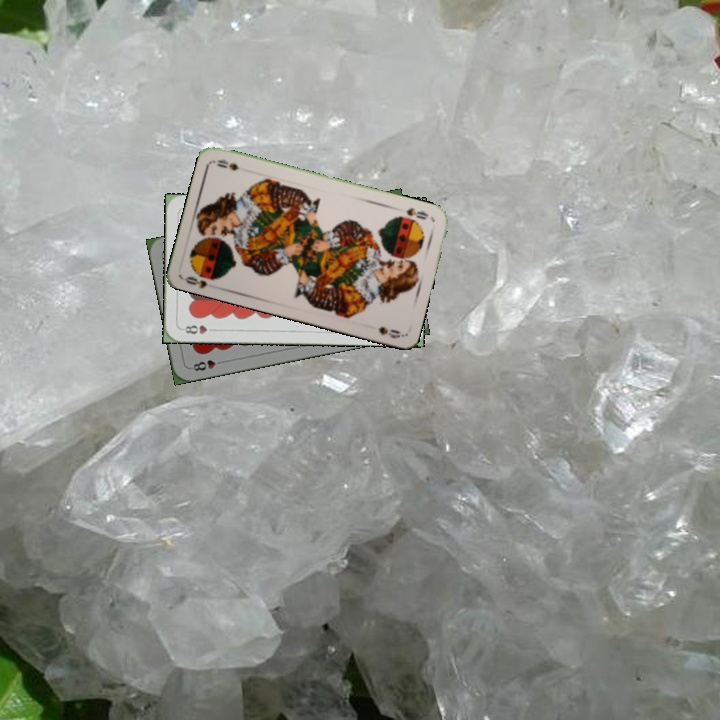H8: (186, 356, 227, 374), (178, 321, 219, 336)
SO: (181, 272, 210, 291), (402, 203, 431, 222)
